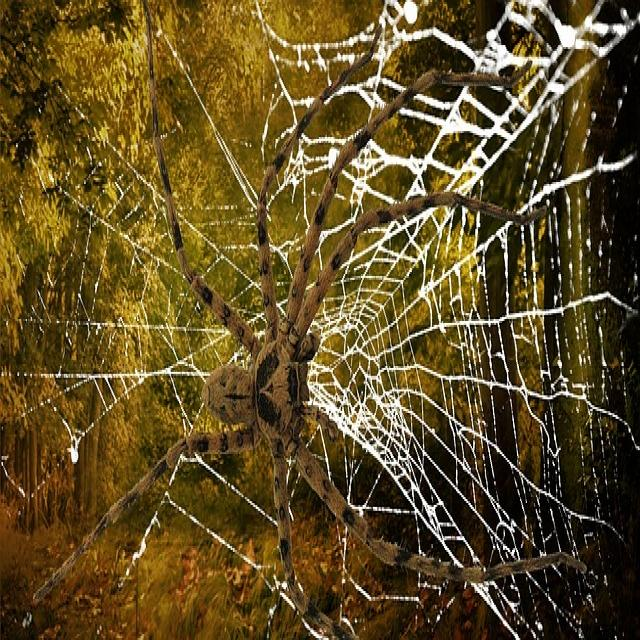spyder: (31, 6, 579, 640)
